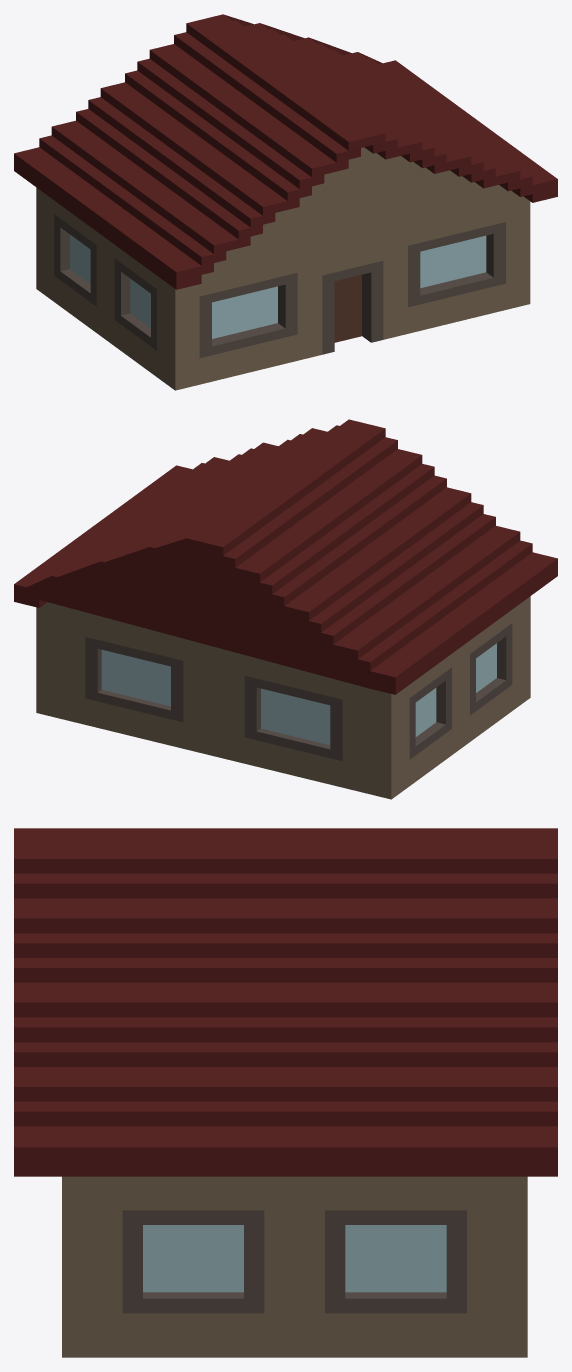
Rendered from house.fbx.
The picture shows the model from 3 angles, top to bottom: view 1: azimuth 30°, elevation 25°; view 2: azimuth 150°, elevation 25°; view 3: azimuth 270°, elevation 25°; orthographic projection. The views are drawn at different scales.
Visible parts, largest first — view 1: Cube.001; view 2: Cube.001; view 3: Cube.001.
Part boxes in pixels (left/top/right/bottom): Cube.001: left=14, top=14, right=557, bottom=390; Cube.001: left=14, top=419, right=557, bottom=799; Cube.001: left=14, top=828, right=557, bottom=1357.
Size of the model in its own units: 12.1 by 6.67 by 8.92.
